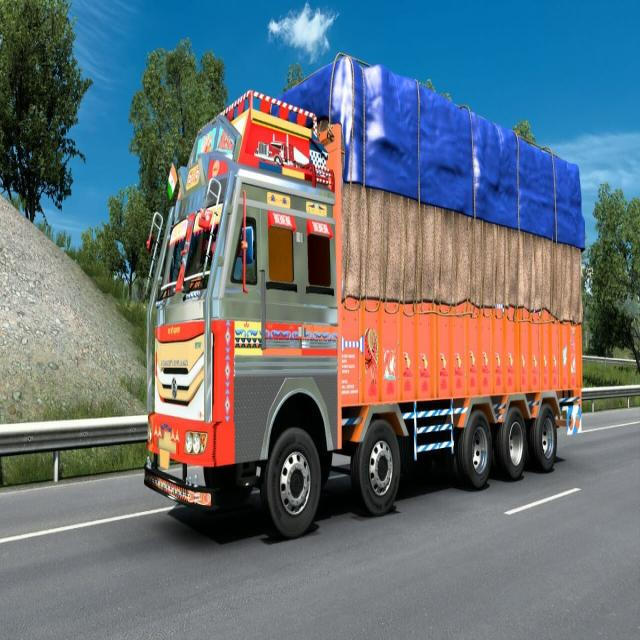truck: (145, 56, 584, 538)
